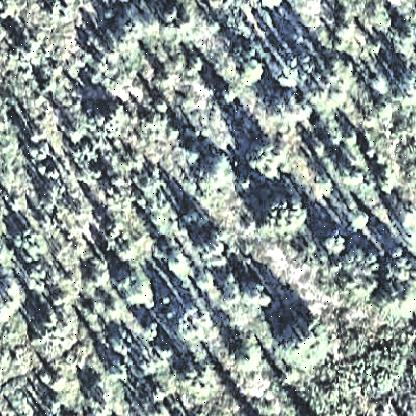tree-top: (260, 194, 312, 238), (245, 138, 287, 180), (290, 313, 330, 353), (123, 271, 157, 307), (232, 341, 264, 375), (197, 229, 229, 263), (203, 152, 233, 188), (272, 60, 304, 93), (11, 36, 43, 68), (11, 222, 41, 254), (214, 53, 242, 85), (241, 55, 267, 89), (176, 360, 205, 390), (164, 250, 194, 278), (2, 279, 24, 315), (64, 119, 90, 147), (373, 169, 401, 195), (395, 69, 416, 103), (398, 199, 416, 237), (337, 15, 363, 41), (324, 233, 352, 257), (41, 2, 67, 24), (370, 73, 392, 97), (116, 241, 140, 263), (178, 320, 200, 344), (123, 20, 145, 44), (195, 271, 218, 293), (349, 209, 372, 230), (391, 242, 411, 264), (244, 284, 262, 306), (113, 363, 136, 379), (9, 194, 27, 214), (31, 142, 51, 160), (399, 23, 416, 43), (1, 1, 19, 19), (160, 10, 182, 24), (43, 310, 57, 330)
